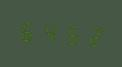five: (60, 20, 80, 48)
four: (39, 18, 59, 46)
six: (18, 17, 38, 45)
two: (81, 21, 101, 49)
